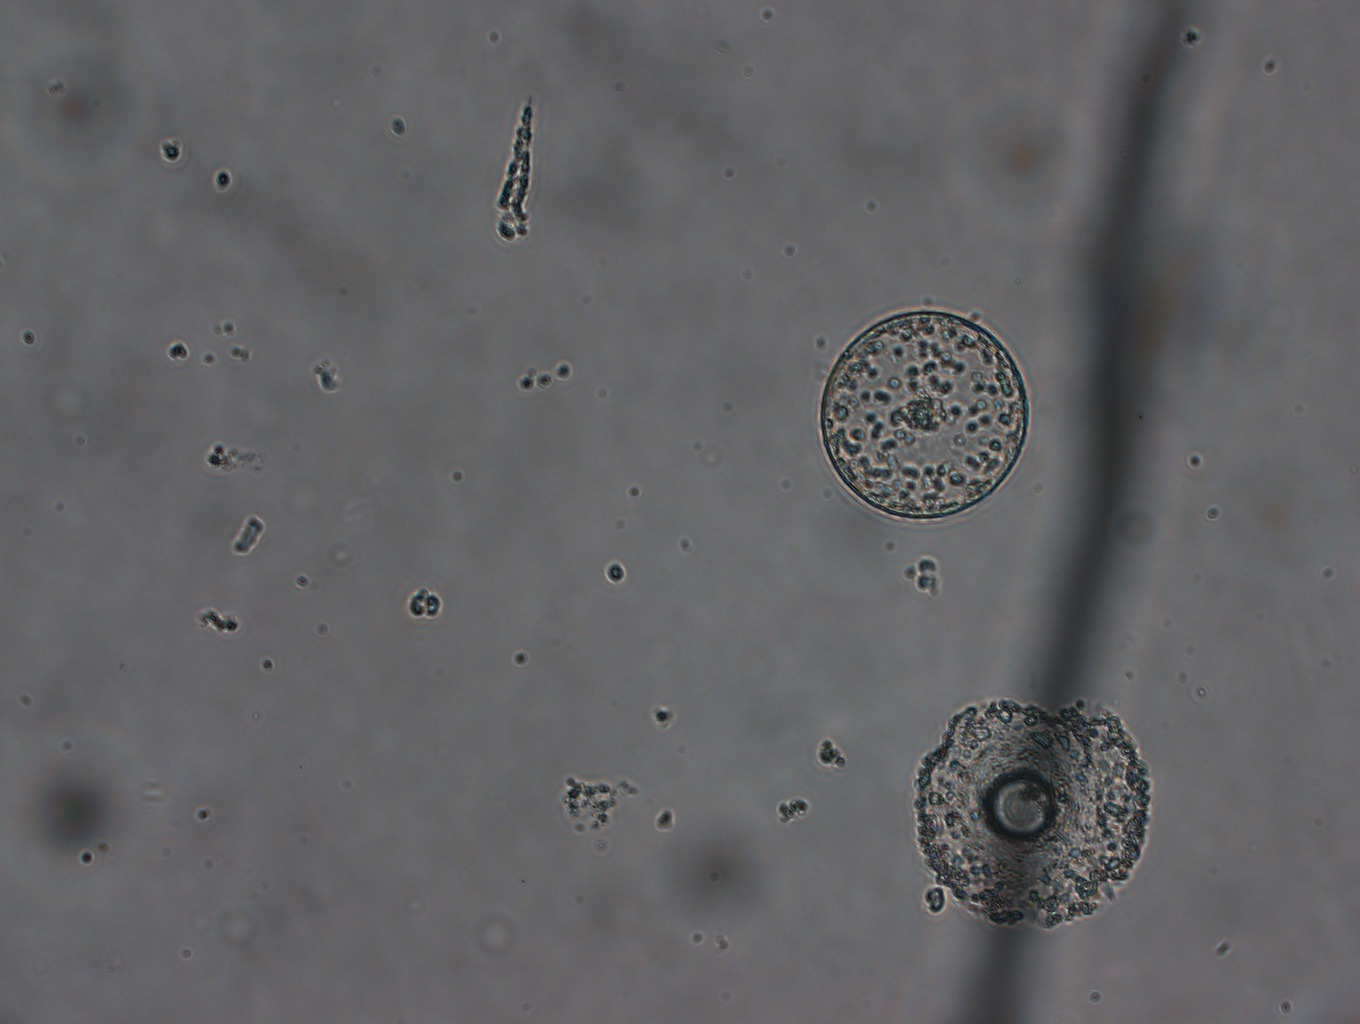coscinodiscus: (819, 308, 1033, 522)
